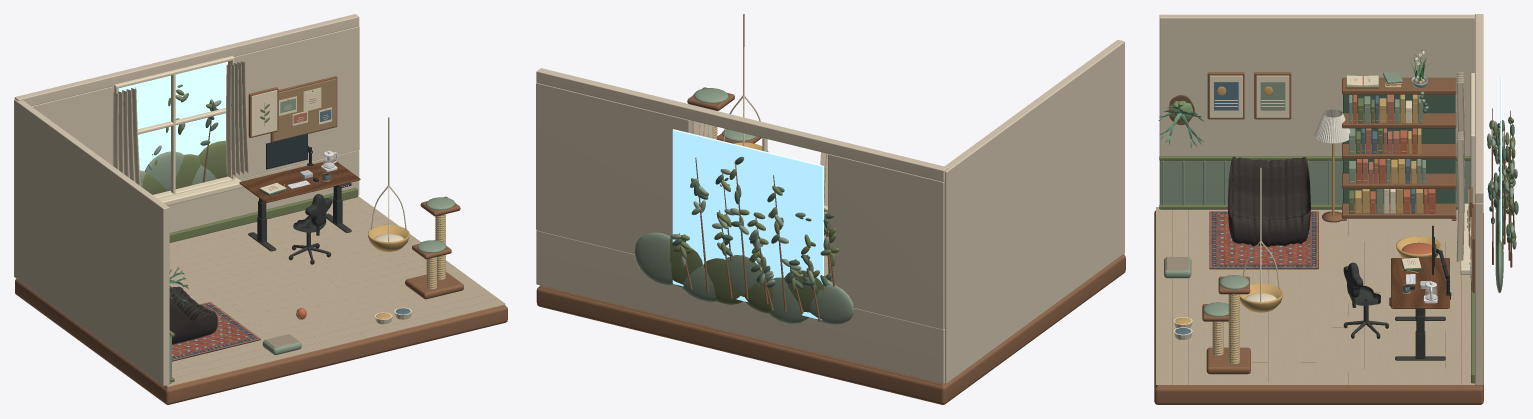
The model's file is whole-room.glb.
The picture shows the model from 3 angles, left to right: view 1: azimuth 30°, elevation 25°; view 2: azimuth 150°, elevation 25°; view 3: azimuth 270°, elevation 25°; orthographic projection. The views are drawn at different scales.
Parts seen in each view (by area): view 1: architecture, floor, laptop, tree, carpet, sofa, cradle, chair, monitor; view 2: architecture, tree; view 3: architecture, floor, shelf, sofa, carpet, tree, laptop, cradle, chair, plant, book, narcissus (+1 smaller).
Boxes of the visible parts, left/top/right/bottom form: architecture: left=14, top=14, right=507, bottom=404; floor: left=166, top=196, right=505, bottom=386; laptop: left=239, top=159, right=360, bottom=251; tree: left=405, top=196, right=463, bottom=299; carpet: left=172, top=302, right=260, bottom=361; sofa: left=169, top=286, right=217, bottom=344; cradle: left=368, top=117, right=409, bottom=251; chair: left=288, top=194, right=331, bottom=264; monitor: left=266, top=133, right=313, bottom=169; architecture: left=536, top=40, right=1125, bottom=404; tree: left=687, top=87, right=761, bottom=143; architecture: left=1154, top=14, right=1518, bottom=404; floor: left=1156, top=207, right=1474, bottom=384; shelf: left=1342, top=77, right=1456, bottom=220; sofa: left=1227, top=109, right=1350, bottom=247; carpet: left=1209, top=211, right=1318, bottom=269; tree: left=1202, top=275, right=1250, bottom=374; laptop: left=1389, top=258, right=1449, bottom=360; cradle: left=1240, top=167, right=1283, bottom=312; chair: left=1343, top=262, right=1388, bottom=338; plant: left=1158, top=95, right=1203, bottom=148; book: left=1346, top=75, right=1379, bottom=88; narcissus: left=1409, top=50, right=1430, bottom=88.
Size of the model in its own units: 5.05 by 2.78 by 4.31.
Materials: 47 (4 with a texture image).
